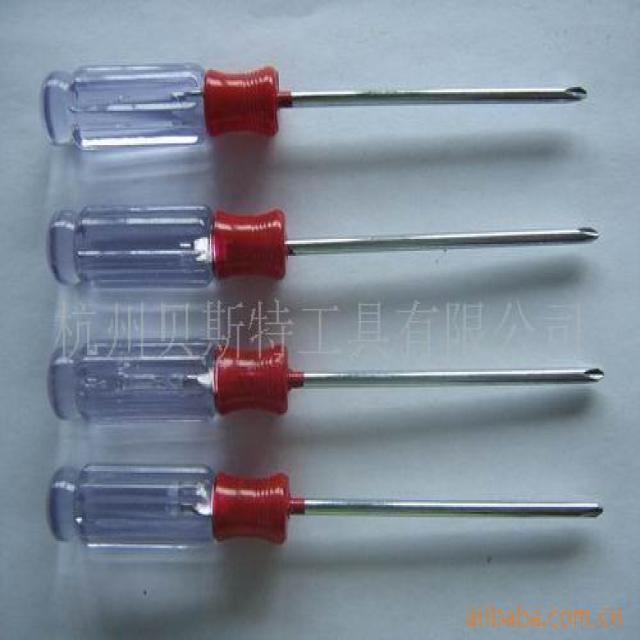screw driver: (38, 449, 640, 587), (37, 314, 633, 438), (32, 47, 599, 173), (35, 182, 614, 292)
